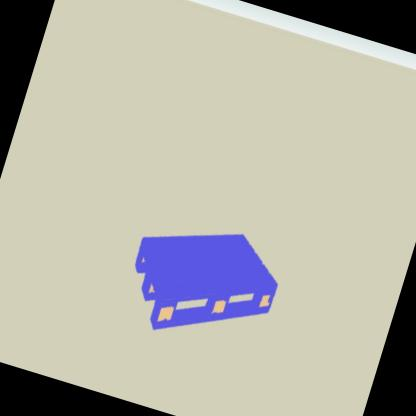BoxFace: (130, 229, 281, 333)
